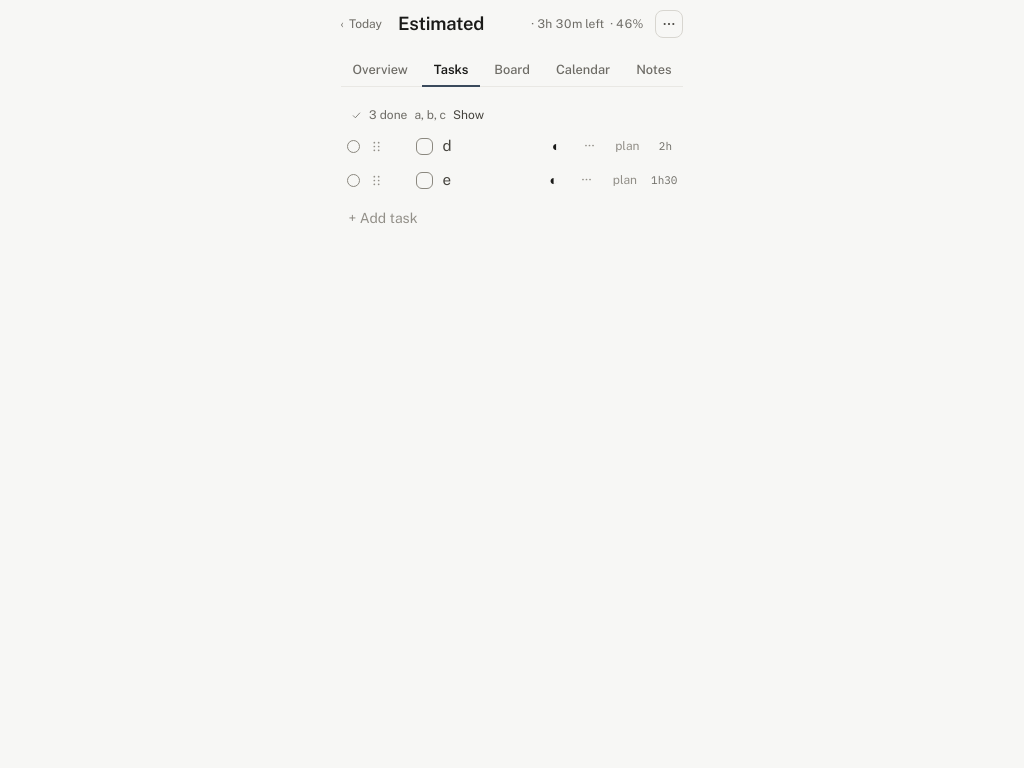
a project with no schedule › adds remaining effort when every open step is estimated
Click the button with aria-label "Goal status and dates" at coordinates (587, 24), box 523,10 -> 651,38
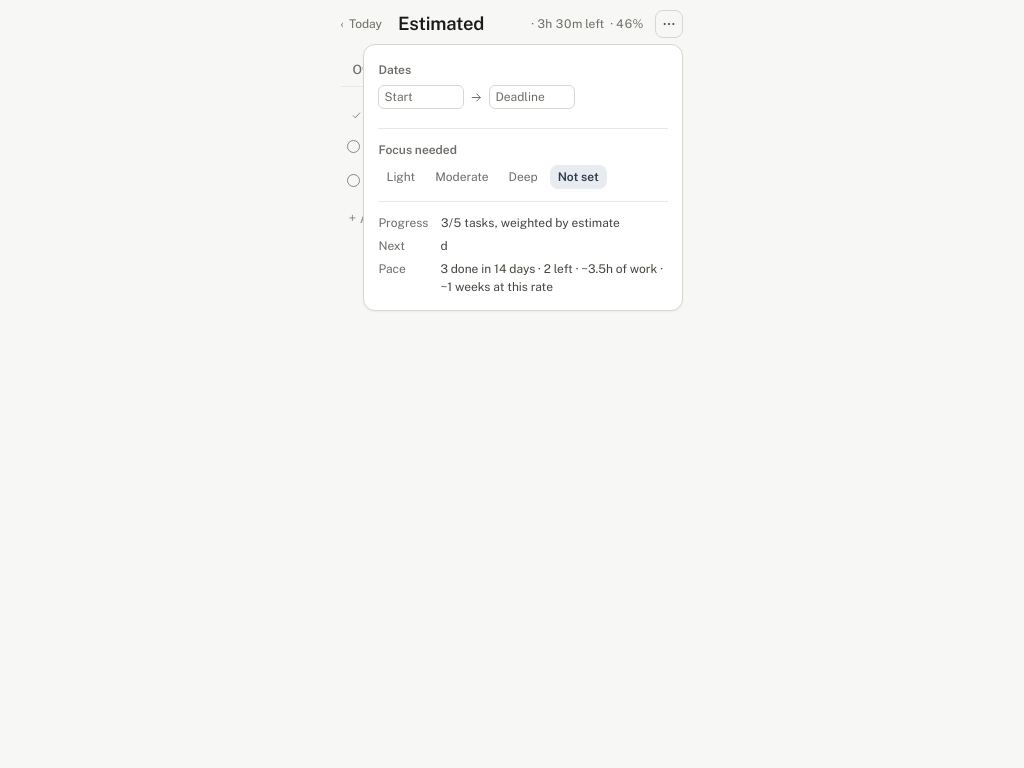
Expected: the text "~3.5h of work" is shown, 440,262 -> 663,294
